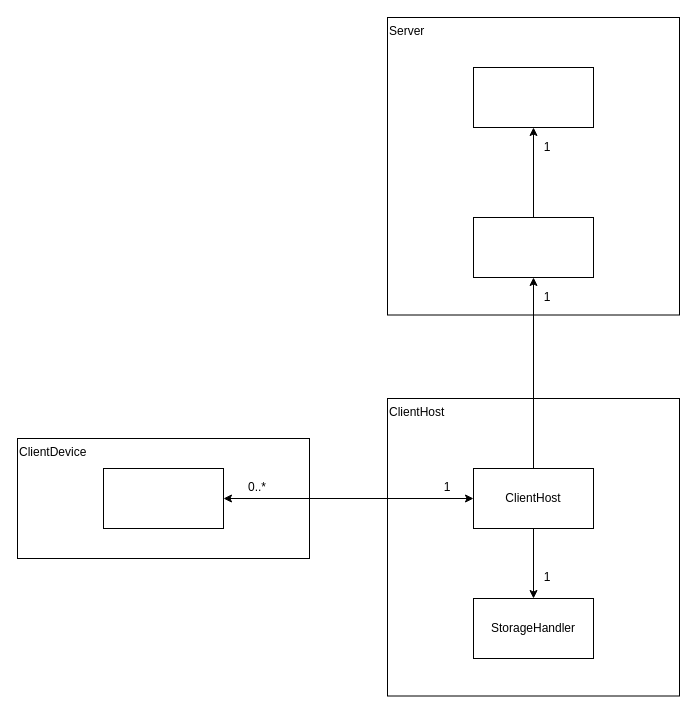
Some shapes in this 697 by 714 pixel diagram are drawn without their labels. The centre of each missing label's shape, as x and y in pixels:
"Client" goes at [163,498].
"DatabaseHandler" goes at [533,97].
"ServerMain" goes at [533,247].
